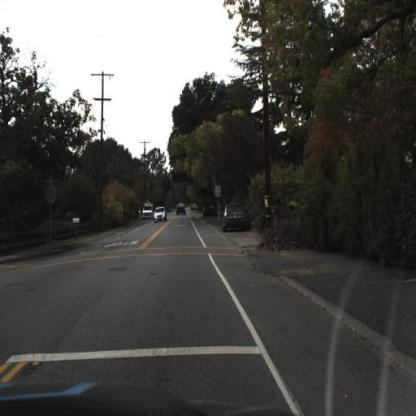car: (221, 202, 249, 233), (141, 199, 156, 220), (153, 204, 167, 224), (140, 204, 155, 221), (175, 204, 186, 220)
